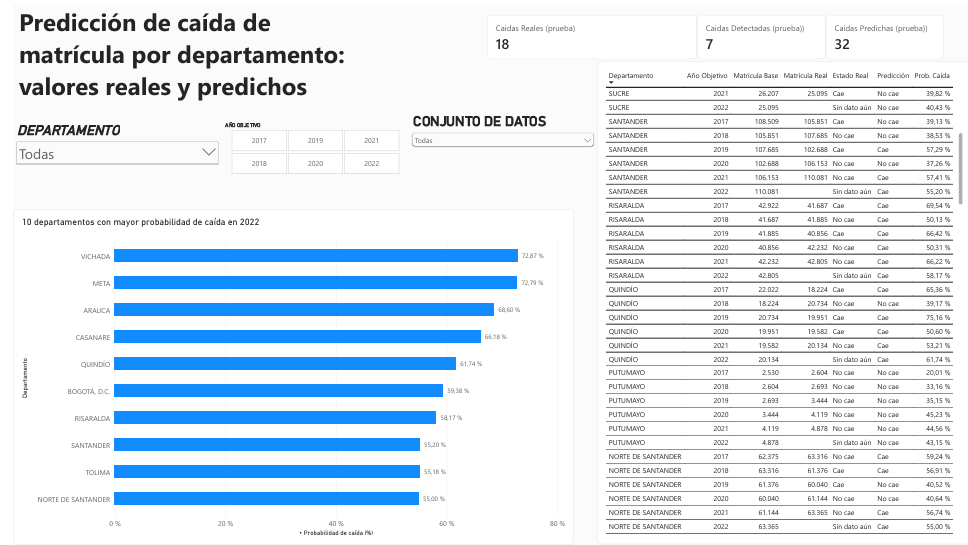

The page's visual inventory and layout, read from the dashboard file:
{"tool":"powerbi","page":{"name":"Predicciones","canvas":[1920,1080],"ordinal":3},"visuals":[{"type":"textbox","box":[10,0,657.5,310],"z":0},{"type":"cardVisual","fields":{"Data":["pred_caida_matricula_depto.Caidas_Reales"]},"box":[950,20,420,88.9],"z":1000},{"type":"cardVisual","fields":{"Data":["pred_caida_matricula_depto.Caidas_Detectadas"]},"box":[1370,20,257.8,88.9],"z":2000},{"type":"cardVisual","fields":{"Data":["pred_caida_matricula_depto.Caidas_Predichas"]},"box":[1628,20,236.7,88.9],"z":3000},{"type":"slicer","fields":{"Values":["vw_dim_departamento.nom_dpto"]},"box":[0,232.9,417.1,120],"z":4000},{"type":"slicer","fields":{"Values":["pred_caida_matricula_depto.anio_objetivo"]},"box":[416.7,233.3,376,106],"z":5000},{"type":"slicer","fields":{"Values":["pred_caida_matricula_depto.conjunto"]},"box":[793.3,216.7,376,136],"z":6000},{"type":"clusteredBarChart","title":"10 departamentos con mayor probabilidad de caída en 2022","fields":{"Category":["vw_dim_departamento.nom_dpto"],"Y":["Avg(pred_caida_matricula_depto.prob_caida)"]},"box":[0,406.7,1123.3,673.3],"z":7000},{"type":"tableEx","fields":{"Values":["vw_dim_departamento.nom_dpto","pred_caida_matricula_depto.anio_objetivo","Sum(pred_caida_matricula_depto.matricula_base)","Sum(pred_caida_matricula_depto.matricula_real)","pred_caida_matricula_depto.Real_txt","pred_caida_matricula_depto.Predicho_txt","Avg(pred_caida_matricula_depto.prob_caida)"]},"box":[1170,113.3,750,966.7],"z":8000}]}

Visuals, with their boxes in screenshot pixels (x1, y1, x2, y2), scaled from the page's 1920x1080 canvas onto the 968x545 screenshot:
textbox: (left=5, top=0, right=337, bottom=156)
cardVisual - pred_caida_matricula_depto.Caidas_Reales: (left=479, top=10, right=691, bottom=55)
cardVisual - pred_caida_matricula_depto.Caidas_Detectadas: (left=691, top=10, right=821, bottom=55)
cardVisual - pred_caida_matricula_depto.Caidas_Predichas: (left=821, top=10, right=940, bottom=55)
slicer - vw_dim_departamento.nom_dpto: (left=0, top=118, right=210, bottom=178)
slicer - pred_caida_matricula_depto.anio_objetivo: (left=210, top=118, right=400, bottom=171)
slicer - pred_caida_matricula_depto.conjunto: (left=400, top=109, right=590, bottom=178)
"10 departamentos con mayor probabilidad de caída en 2022" clusteredBarChart: (left=0, top=205, right=566, bottom=544)
tableEx - vw_dim_departamento.nom_dpto x pred_caida_matricula_depto.anio_objetivo: (left=590, top=57, right=967, bottom=544)
